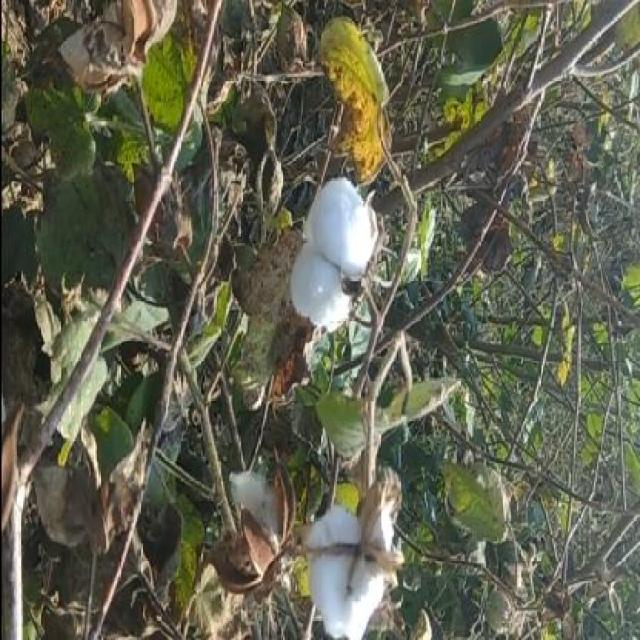cotton_ready: (283, 173, 385, 355), (295, 490, 400, 636)
